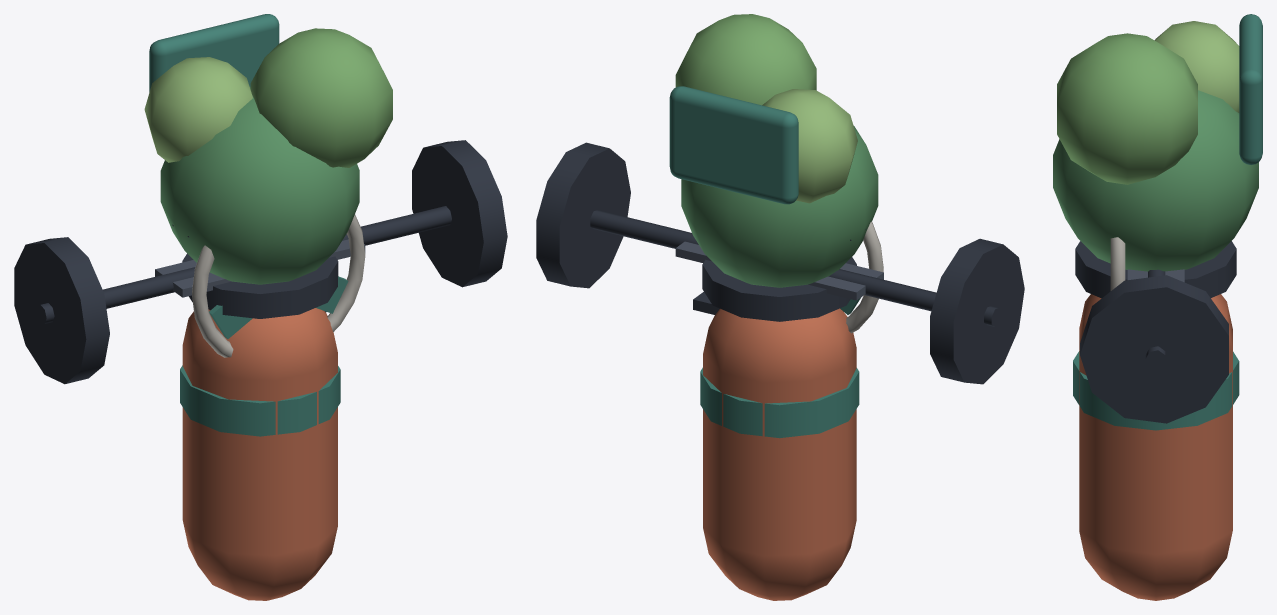
Rendered from rigs.glb.
3 views of the same model, side by side, from view 1: azimuth 30°, elevation 25°; view 2: azimuth 150°, elevation 25°; view 3: azimuth 270°, elevation 25° (orthographic). The views are drawn at different scales.
Parts seen in each view (by area): view 1: rig10, rig4, rig3, rig0, rig8, rig1, rig9; view 2: rig4, rig10, rig3, rig0, rig1, rig8; view 3: rig10, rig4, rig3, rig0, rig8, rig1.
Boxes of the visible parts, <box> form: rig10: <box>144,28,392,284</box>; rig4: <box>180,253,340,600</box>; rig3: <box>14,140,507,384</box>; rig0: <box>149,14,279,92</box>; rig8: <box>192,214,365,357</box>; rig1: <box>155,239,365,297</box>; rig9: <box>209,276,348,338</box>; rig4: <box>700,257,859,600</box>; rig10: <box>675,14,878,287</box>; rig3: <box>536,142,1024,384</box>; rig0: <box>669,86,798,204</box>; rig1: <box>675,241,883,300</box>; rig8: <box>846,221,883,333</box>; rig10: <box>1053,21,1258,271</box>; rig4: <box>1073,241,1239,600</box>; rig3: <box>1080,269,1228,423</box>; rig0: <box>1239,14,1262,164</box>; rig8: <box>1110,237,1125,290</box>; rig1: <box>1127,269,1184,282</box>.
Bounding box in the file's own units: 1.1 × 1.34 × 0.4417.
